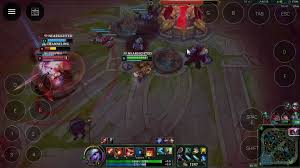bar: (121, 55, 153, 63), (38, 46, 73, 53), (40, 38, 73, 45), (37, 55, 70, 61)
